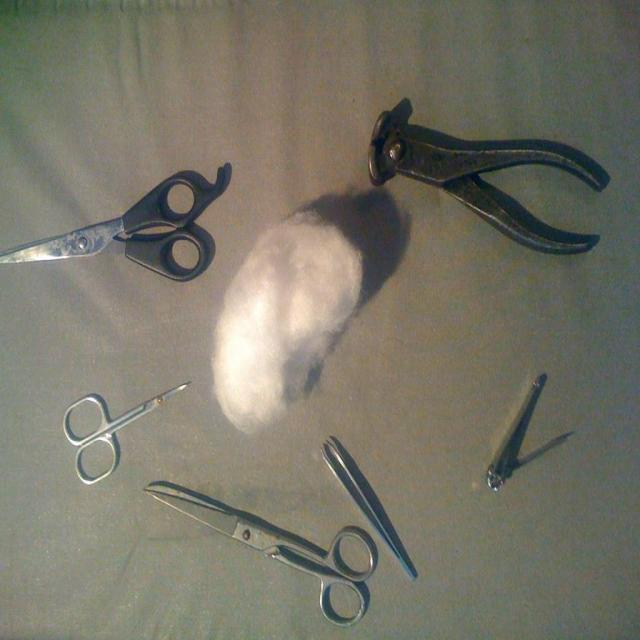scissor: (145, 481, 377, 628), (0, 162, 226, 284), (64, 379, 190, 488)
